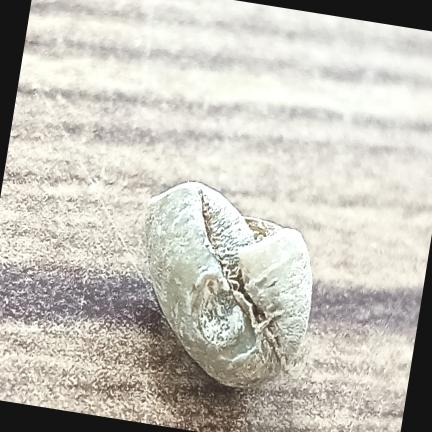cut: (145, 182, 312, 388)
